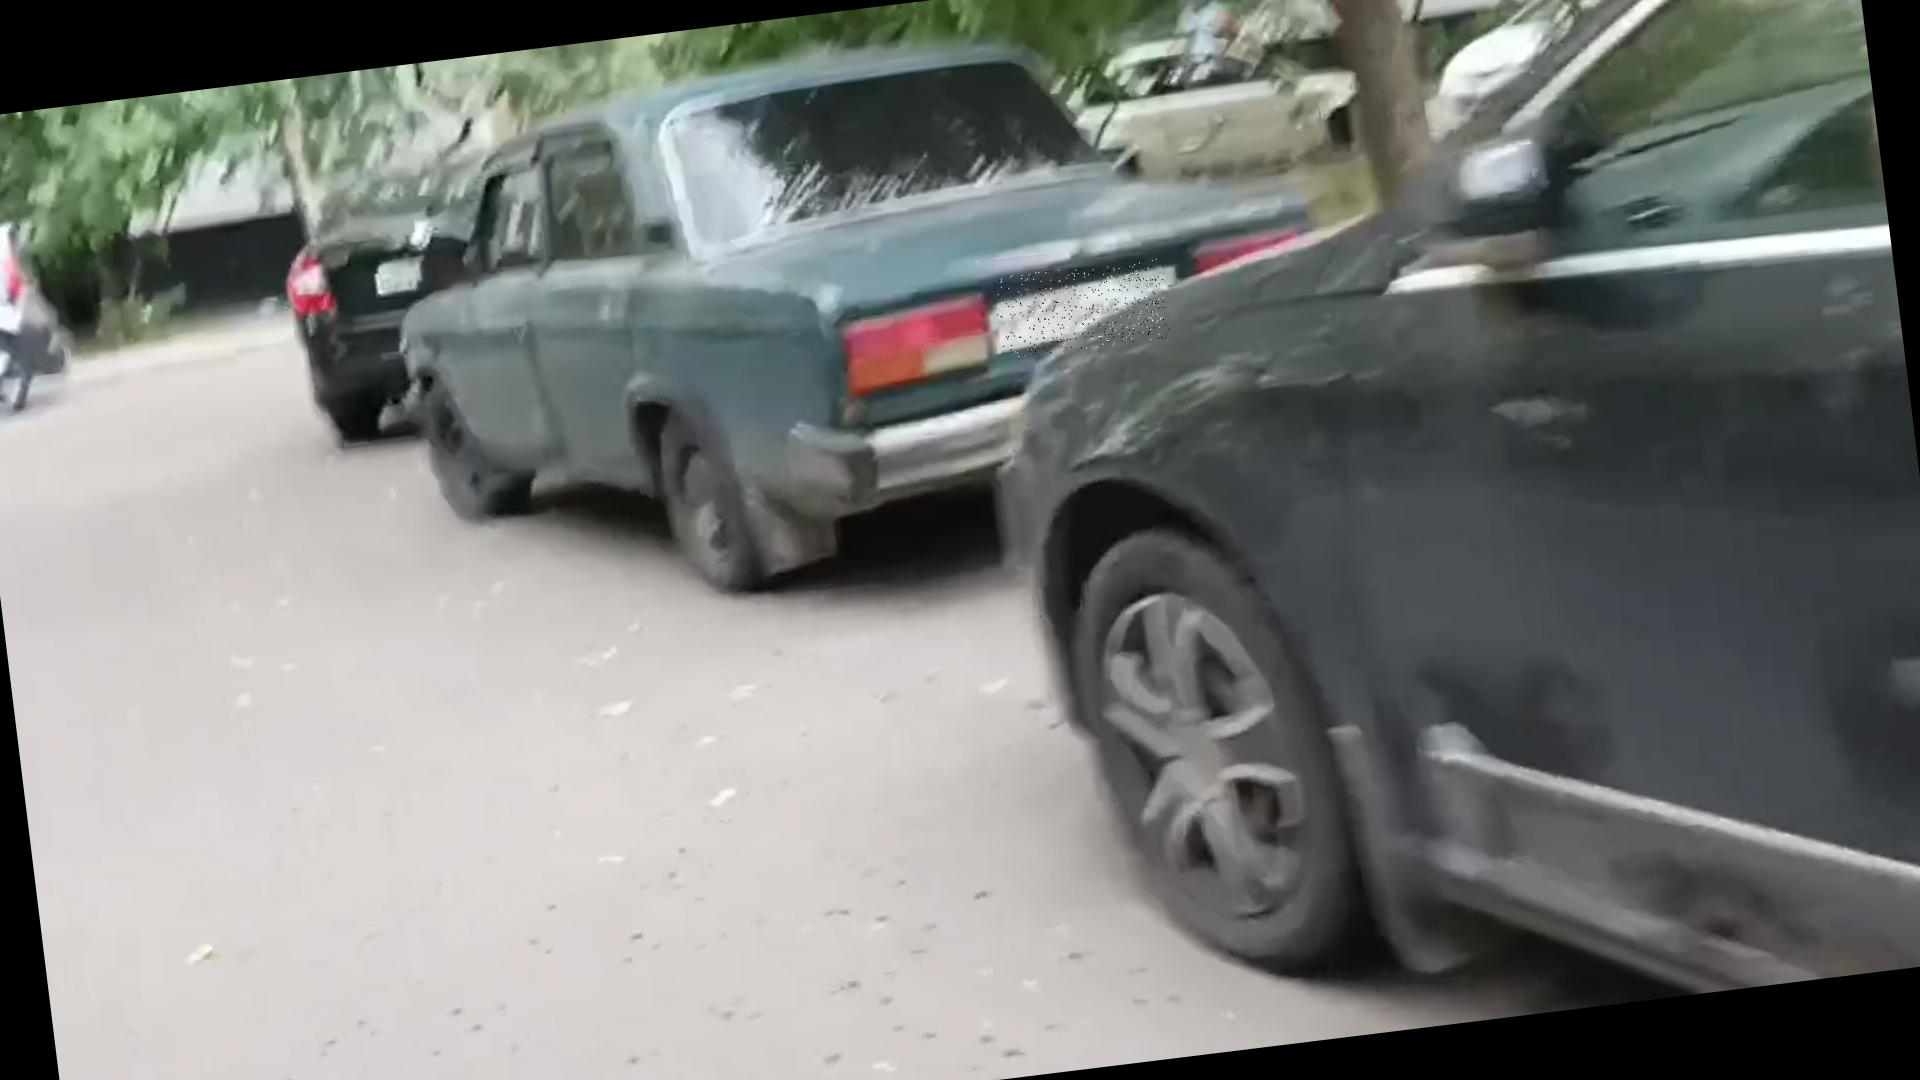plate: (994, 258, 1172, 360)
